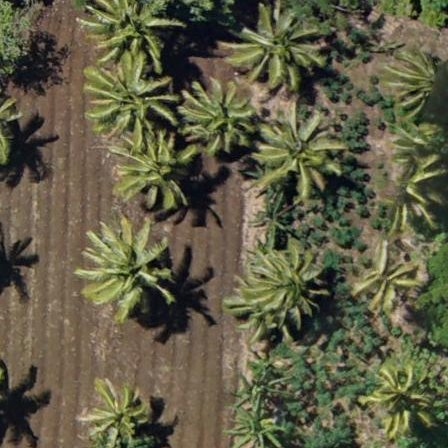palm_tree: (232, 1, 315, 87), (240, 244, 321, 331), (87, 51, 167, 136), (265, 111, 343, 194), (83, 224, 160, 306), (367, 366, 436, 441), (80, 376, 149, 448), (118, 135, 191, 201), (351, 241, 419, 309), (85, 1, 165, 58), (183, 80, 247, 150)
